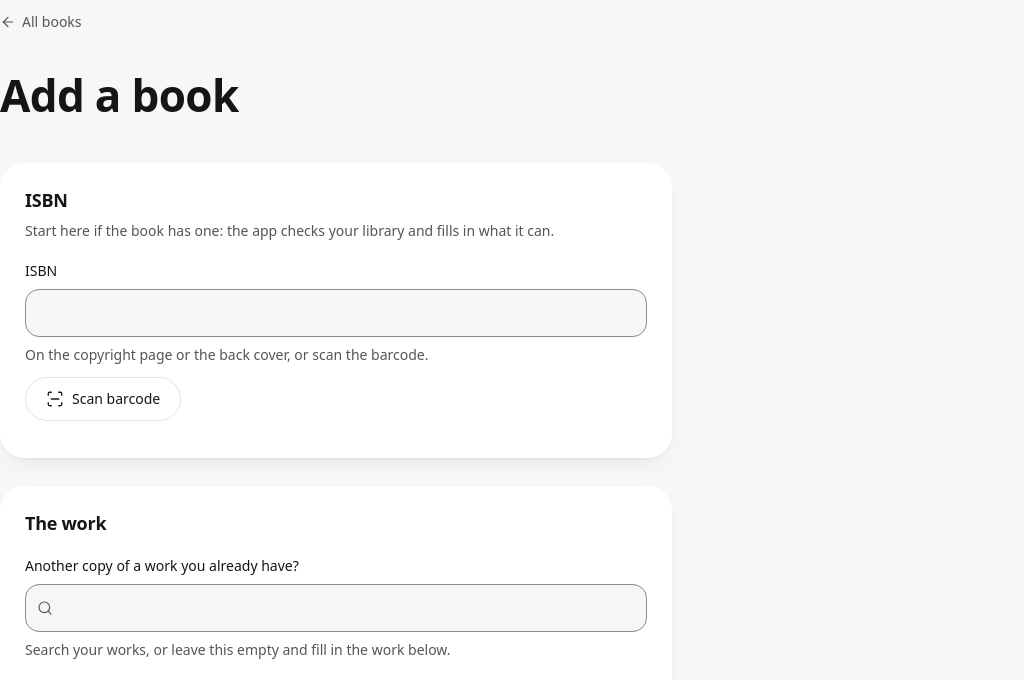
it: BookFormPage › Filling in from the ISBN › says when the language comes from an Arabic publisher on another country's code
The image size is (1024, 680).
In the field labelled "ISBN": (336, 313) [25, 289, 647, 337], type "9789933685027"
(page scrolled)
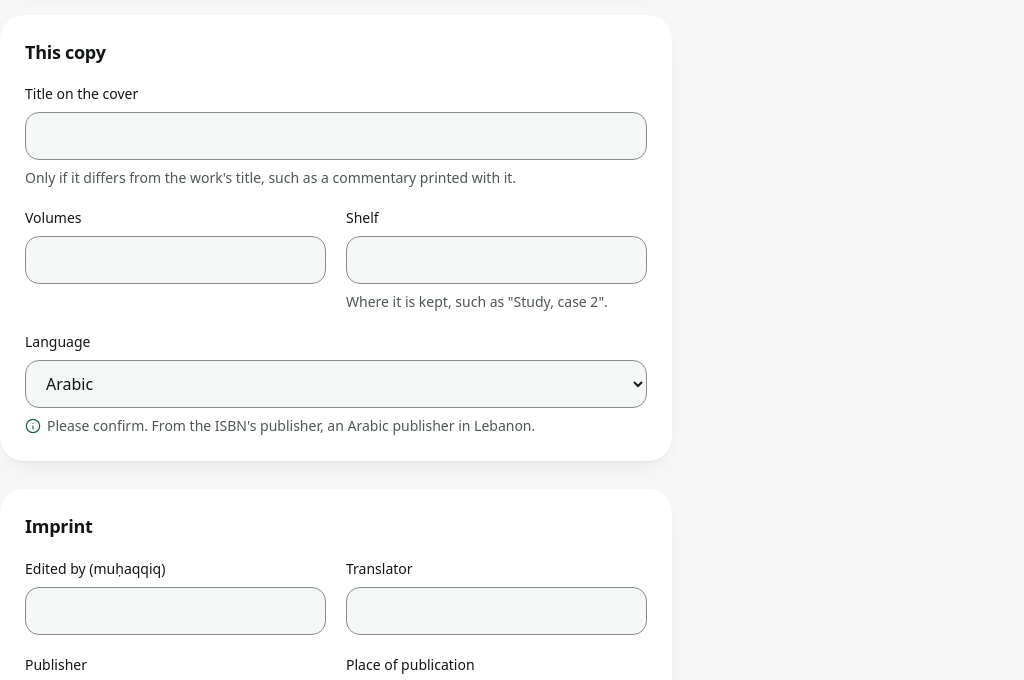
Expected: the dropdown labelled "Language" shows "Arabic", [25, 360, 647, 408]
